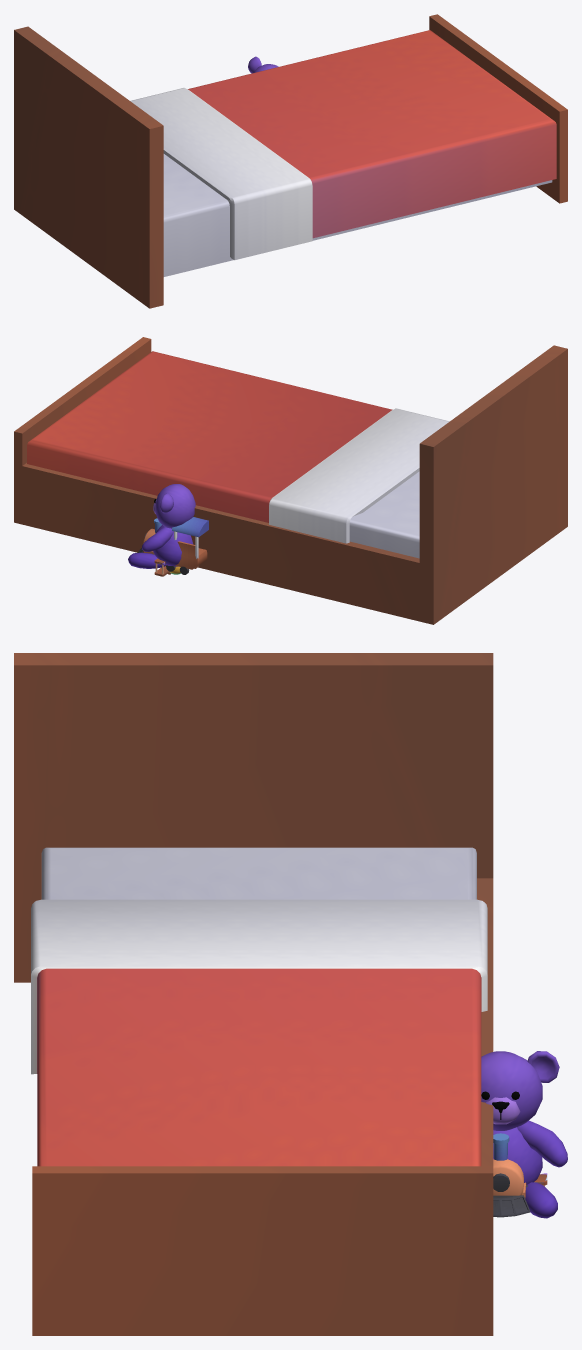
File: models.glb
3 renders of one model, top to bottom at view 1: azimuth 30°, elevation 25°; view 2: azimuth 150°, elevation 25°; view 3: azimuth 270°, elevation 25°, orthographic. The views are drawn at different scales.
Visible parts, largest first — view 1: Bed; view 2: Bed, Teddy, Train; view 3: Bed, Teddy, Train.
Part boxes in pixels (<box>): Bed: <box>14,14,567,308</box>; Bed: <box>14,337,567,624</box>; Teddy: <box>128,484,195,568</box>; Train: <box>137,517,208,574</box>; Bed: <box>14,653,493,1335</box>; Teddy: <box>481,1051,567,1218</box>; Train: <box>493,1133,530,1217</box>.
Size of the model in its own units: 1.86 by 0.7927 by 1.19.
4 materials, 4 textured.
